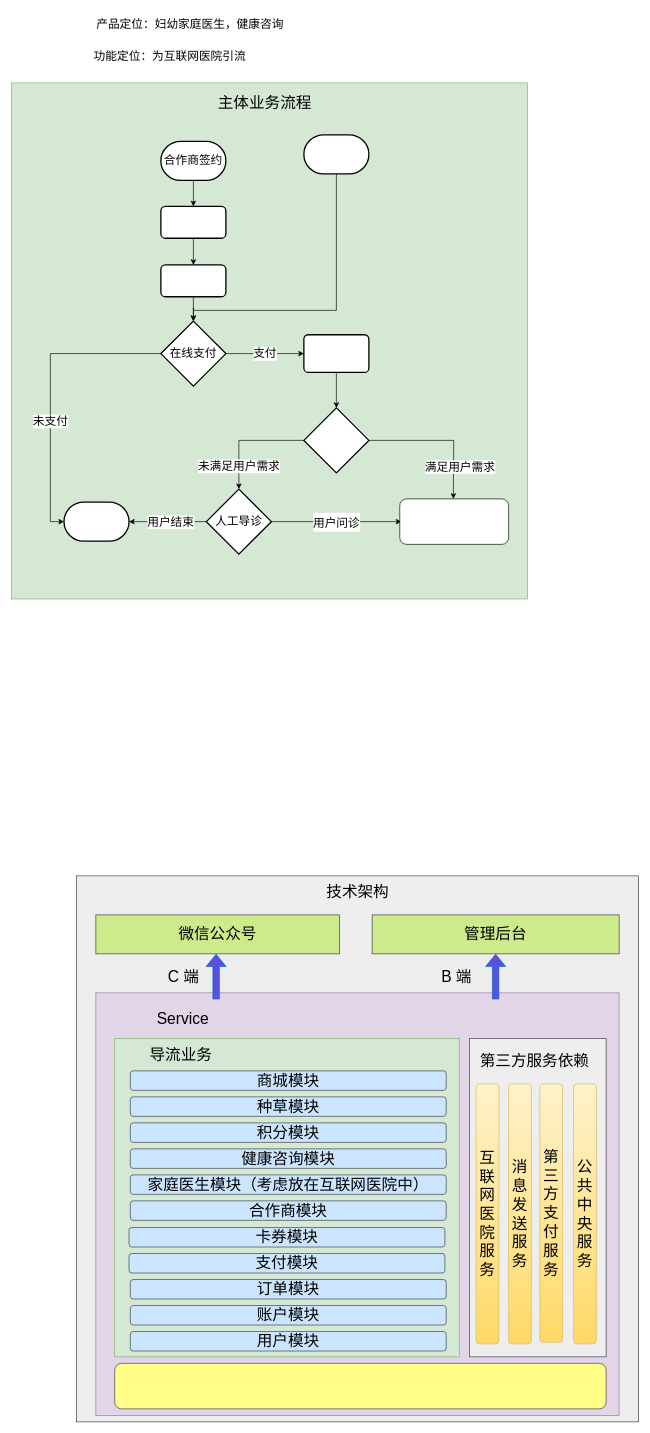
Image size: 650x1433. Some labels were removed from this diagram. The box of each missing label's shape, as (x1, y1, x2, y2) in pixels:
合作商售卡: (160, 264, 226, 297)
完成: (63, 501, 129, 541)
导流到互联网医院进行问诊流程: (399, 498, 509, 544)
平台发卡: (160, 205, 226, 239)
开源快速开发脚手架（基础组件）: (114, 1363, 606, 1409)
智能导诊: (303, 407, 369, 473)
用户主动 购卡入口: (303, 134, 369, 174)
绑卡: (303, 334, 369, 373)
